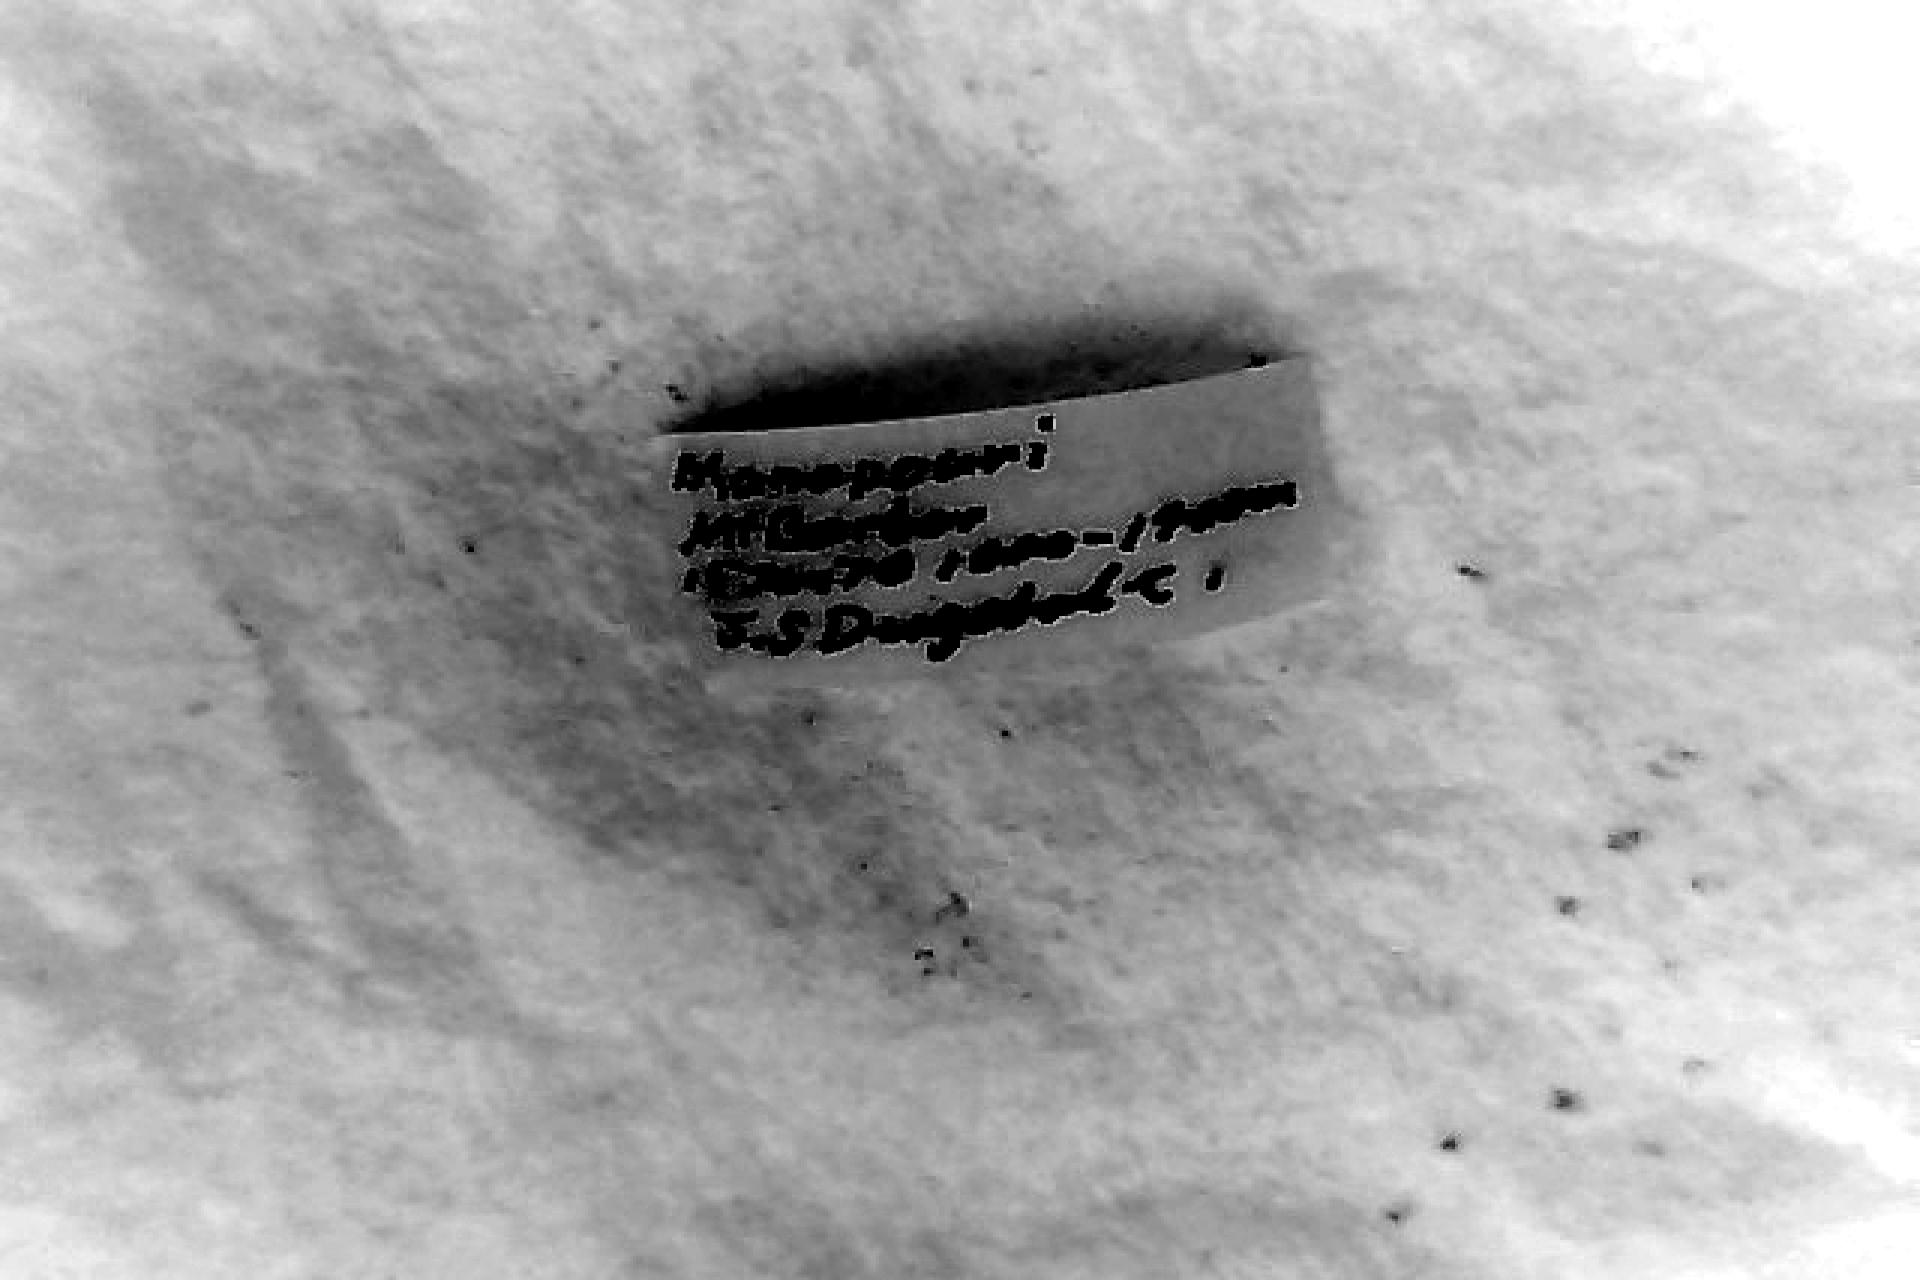hand_label: (660, 360, 1327, 686)
